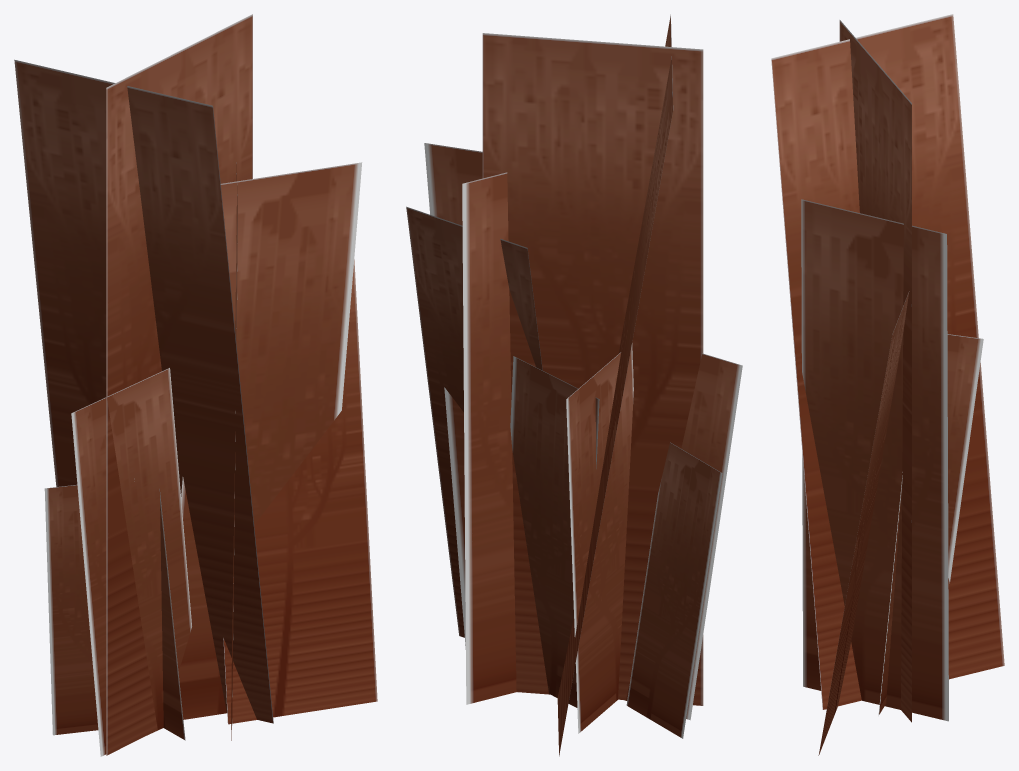
Rendered from Coral_01_02_Group.FBX.
3 views of the same model, side by side, from view 1: azimuth 30°, elevation 25°; view 2: azimuth 150°, elevation 25°; view 3: azimuth 270°, elevation 25° (orthographic). The views are drawn at different scales.
Visible parts, largest first — view 1: %Coral_01_02_Group; view 2: %Coral_01_02_Group; view 3: %Coral_01_02_Group.
Boxes of the visible parts, x1,y1,x2,y2 form: %Coral_01_02_Group: (14, 14, 377, 756); %Coral_01_02_Group: (406, 14, 742, 756); %Coral_01_02_Group: (771, 14, 1004, 755).
Bounding box in the file's own units: 26.84 × 55.2 × 18.61.
